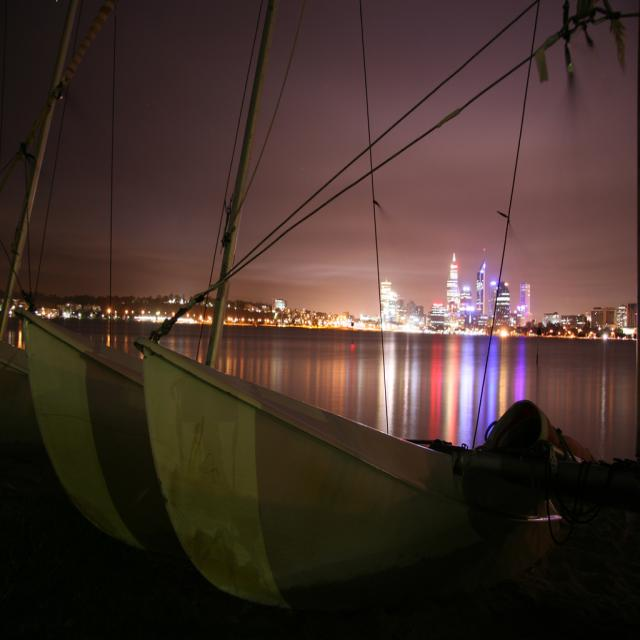Boat: (147, 304, 640, 617), (2, 213, 211, 570)
